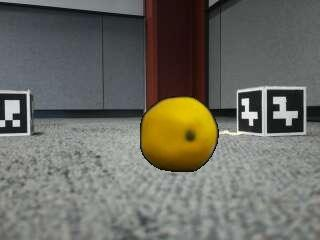lemon: (140, 99, 215, 174)
